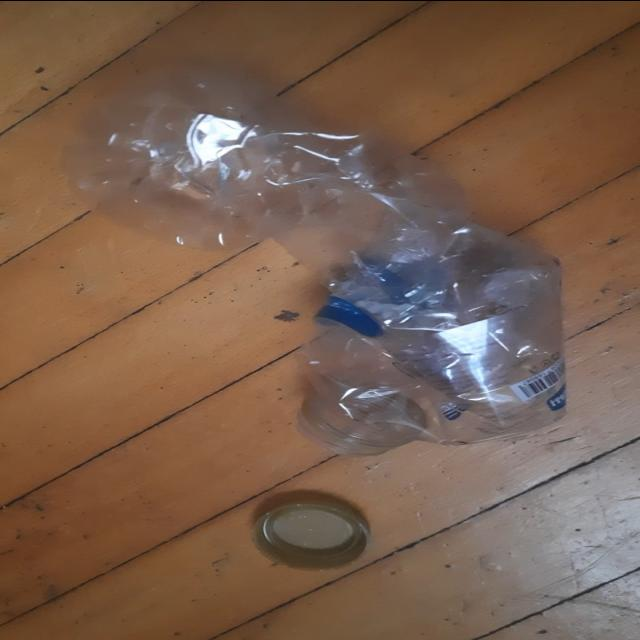Plastic: (60, 80, 568, 454), (253, 490, 372, 570)
